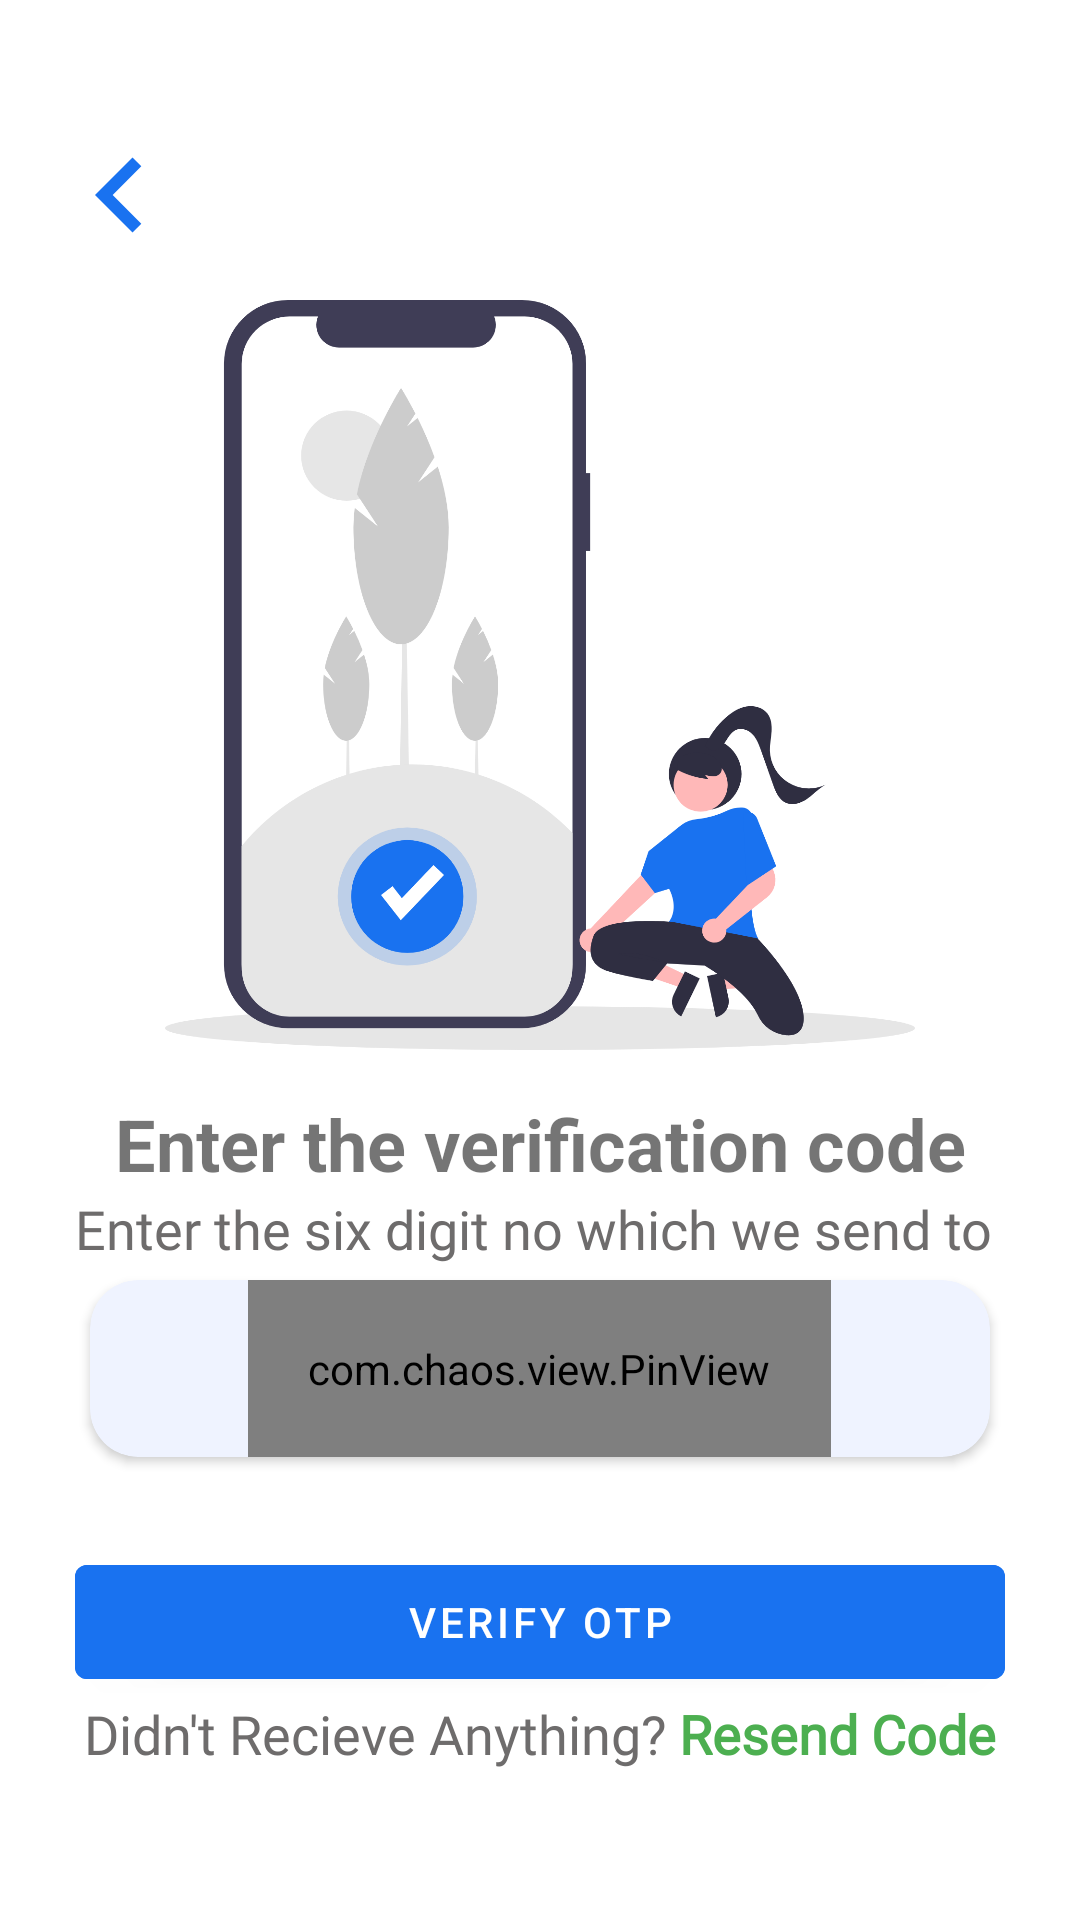

Where to tap for icons on this 1080x1920 app screen, as [x,y]:
keyboard arrow left: [118,195]
